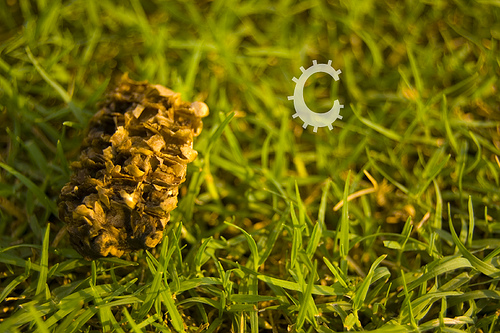corn: (56, 76, 212, 260)
